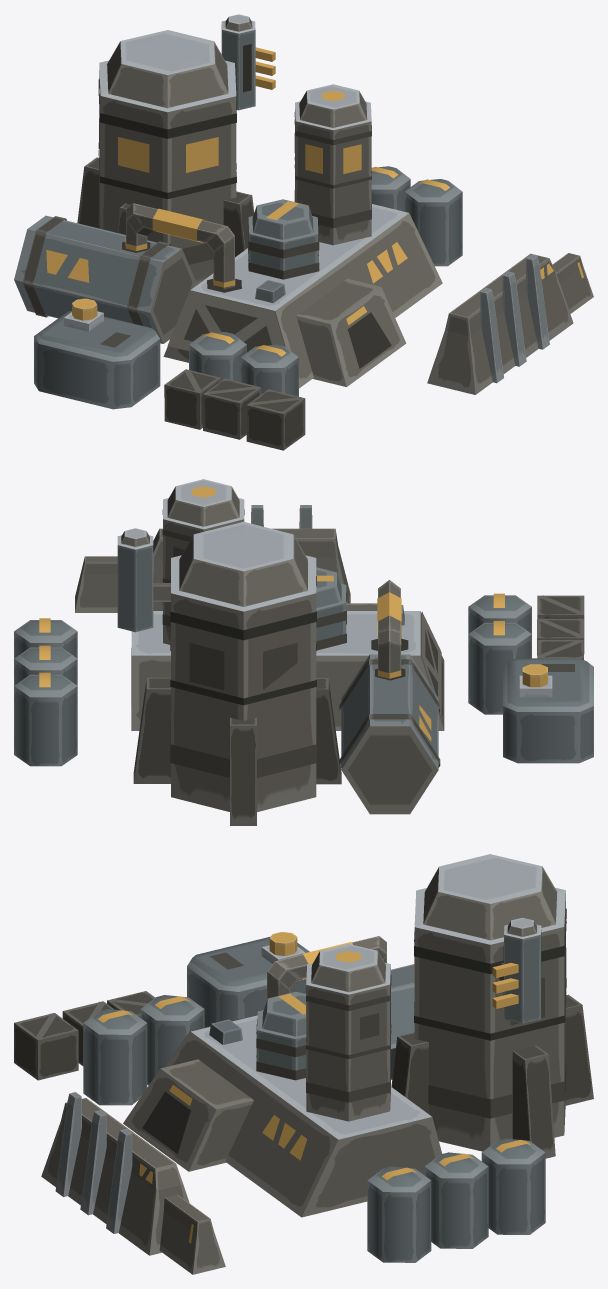
The model's file is saloon1.FBX.
The picture shows the model from 3 angles, top to bottom: view 1: azimuth 30°, elevation 25°; view 2: azimuth 150°, elevation 25°; view 3: azimuth 270°, elevation 25°; orthographic projection. The views are drawn at different scales.
Visible parts, largest first — view 1: saloon1, b, a; view 2: saloon1, b, a, c; view 3: saloon1, b, a, c.
Boxes of the visible parts, x1,y1,x2,y2 form: saloon1: (14, 30, 593, 450); b: (221, 14, 275, 110); a: (252, 199, 313, 239); saloon1: (14, 479, 593, 825); b: (117, 528, 170, 632); a: (316, 567, 341, 607); c: (522, 664, 547, 687); saloon1: (14, 854, 593, 1274); b: (492, 917, 541, 1023); a: (262, 991, 306, 1036); c: (269, 932, 297, 955).
Bounding box in the file's own units: 158 × 139 × 66.75.
